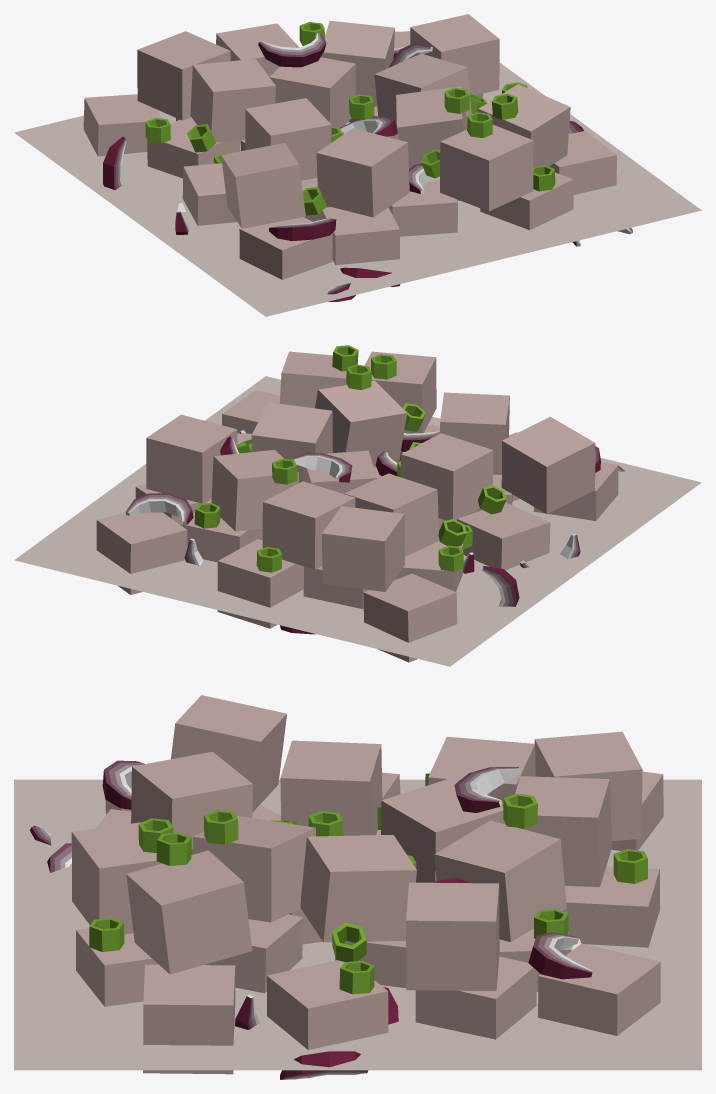
Rendered from Kinilaw na may gata.fbx.
The picture shows the model from 3 angles, top to bottom: view 1: azimuth 30°, elevation 25°; view 2: azimuth 150°, elevation 25°; view 3: azimuth 270°, elevation 25°; orthographic projection. The views are drawn at different scales.
Visible parts, largest first — view 1: Kinilaw na may Gata; view 2: Kinilaw na may Gata; view 3: Kinilaw na may Gata.
Boxes of the visible parts, x1,y1,x2,y2 form: Kinilaw na may Gata: (14,14,701,316); Kinilaw na may Gata: (14,345,701,666); Kinilaw na may Gata: (14,695,701,1079).
Size of the model in its own units: 83.96 by 23.01 by 83.96.
